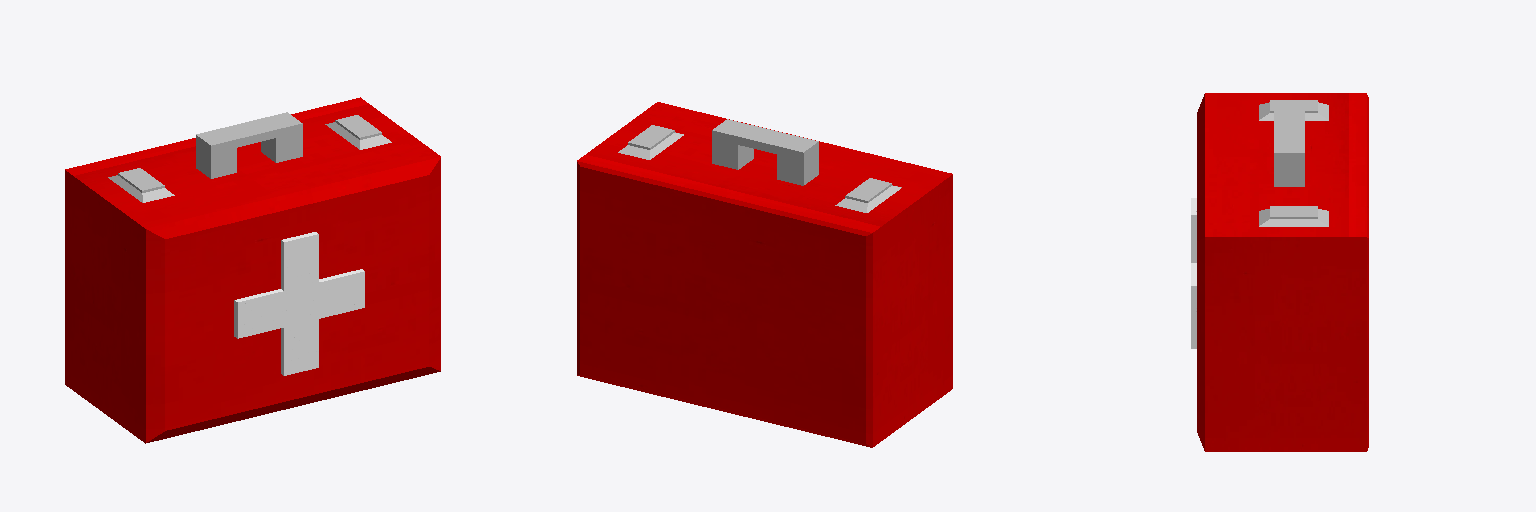
The picture shows the model from 3 angles: view 1: azimuth 30°, elevation 25°; view 2: azimuth 150°, elevation 25°; view 3: azimuth 270°, elevation 25°; orthographic projection.
Visible parts, largest first — view 1: Cube_Cube.001; view 2: Cube_Cube.001; view 3: Cube_Cube.001.
Boxes of the visible parts, x1=… form: Cube_Cube.001: x1=65, y1=97, x2=440, y2=443; Cube_Cube.001: x1=577, y1=102, x2=952, y2=447; Cube_Cube.001: x1=1191, y1=93, x2=1368, y2=451.
Bounding box in the file's own units: 4.76 × 3.81 × 2.48.
7 materials, 2 textured.